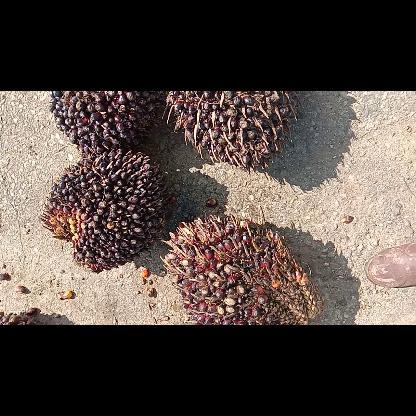TBS mentah: (159, 204, 323, 324), (40, 148, 170, 272), (162, 91, 302, 171), (48, 91, 162, 155)
